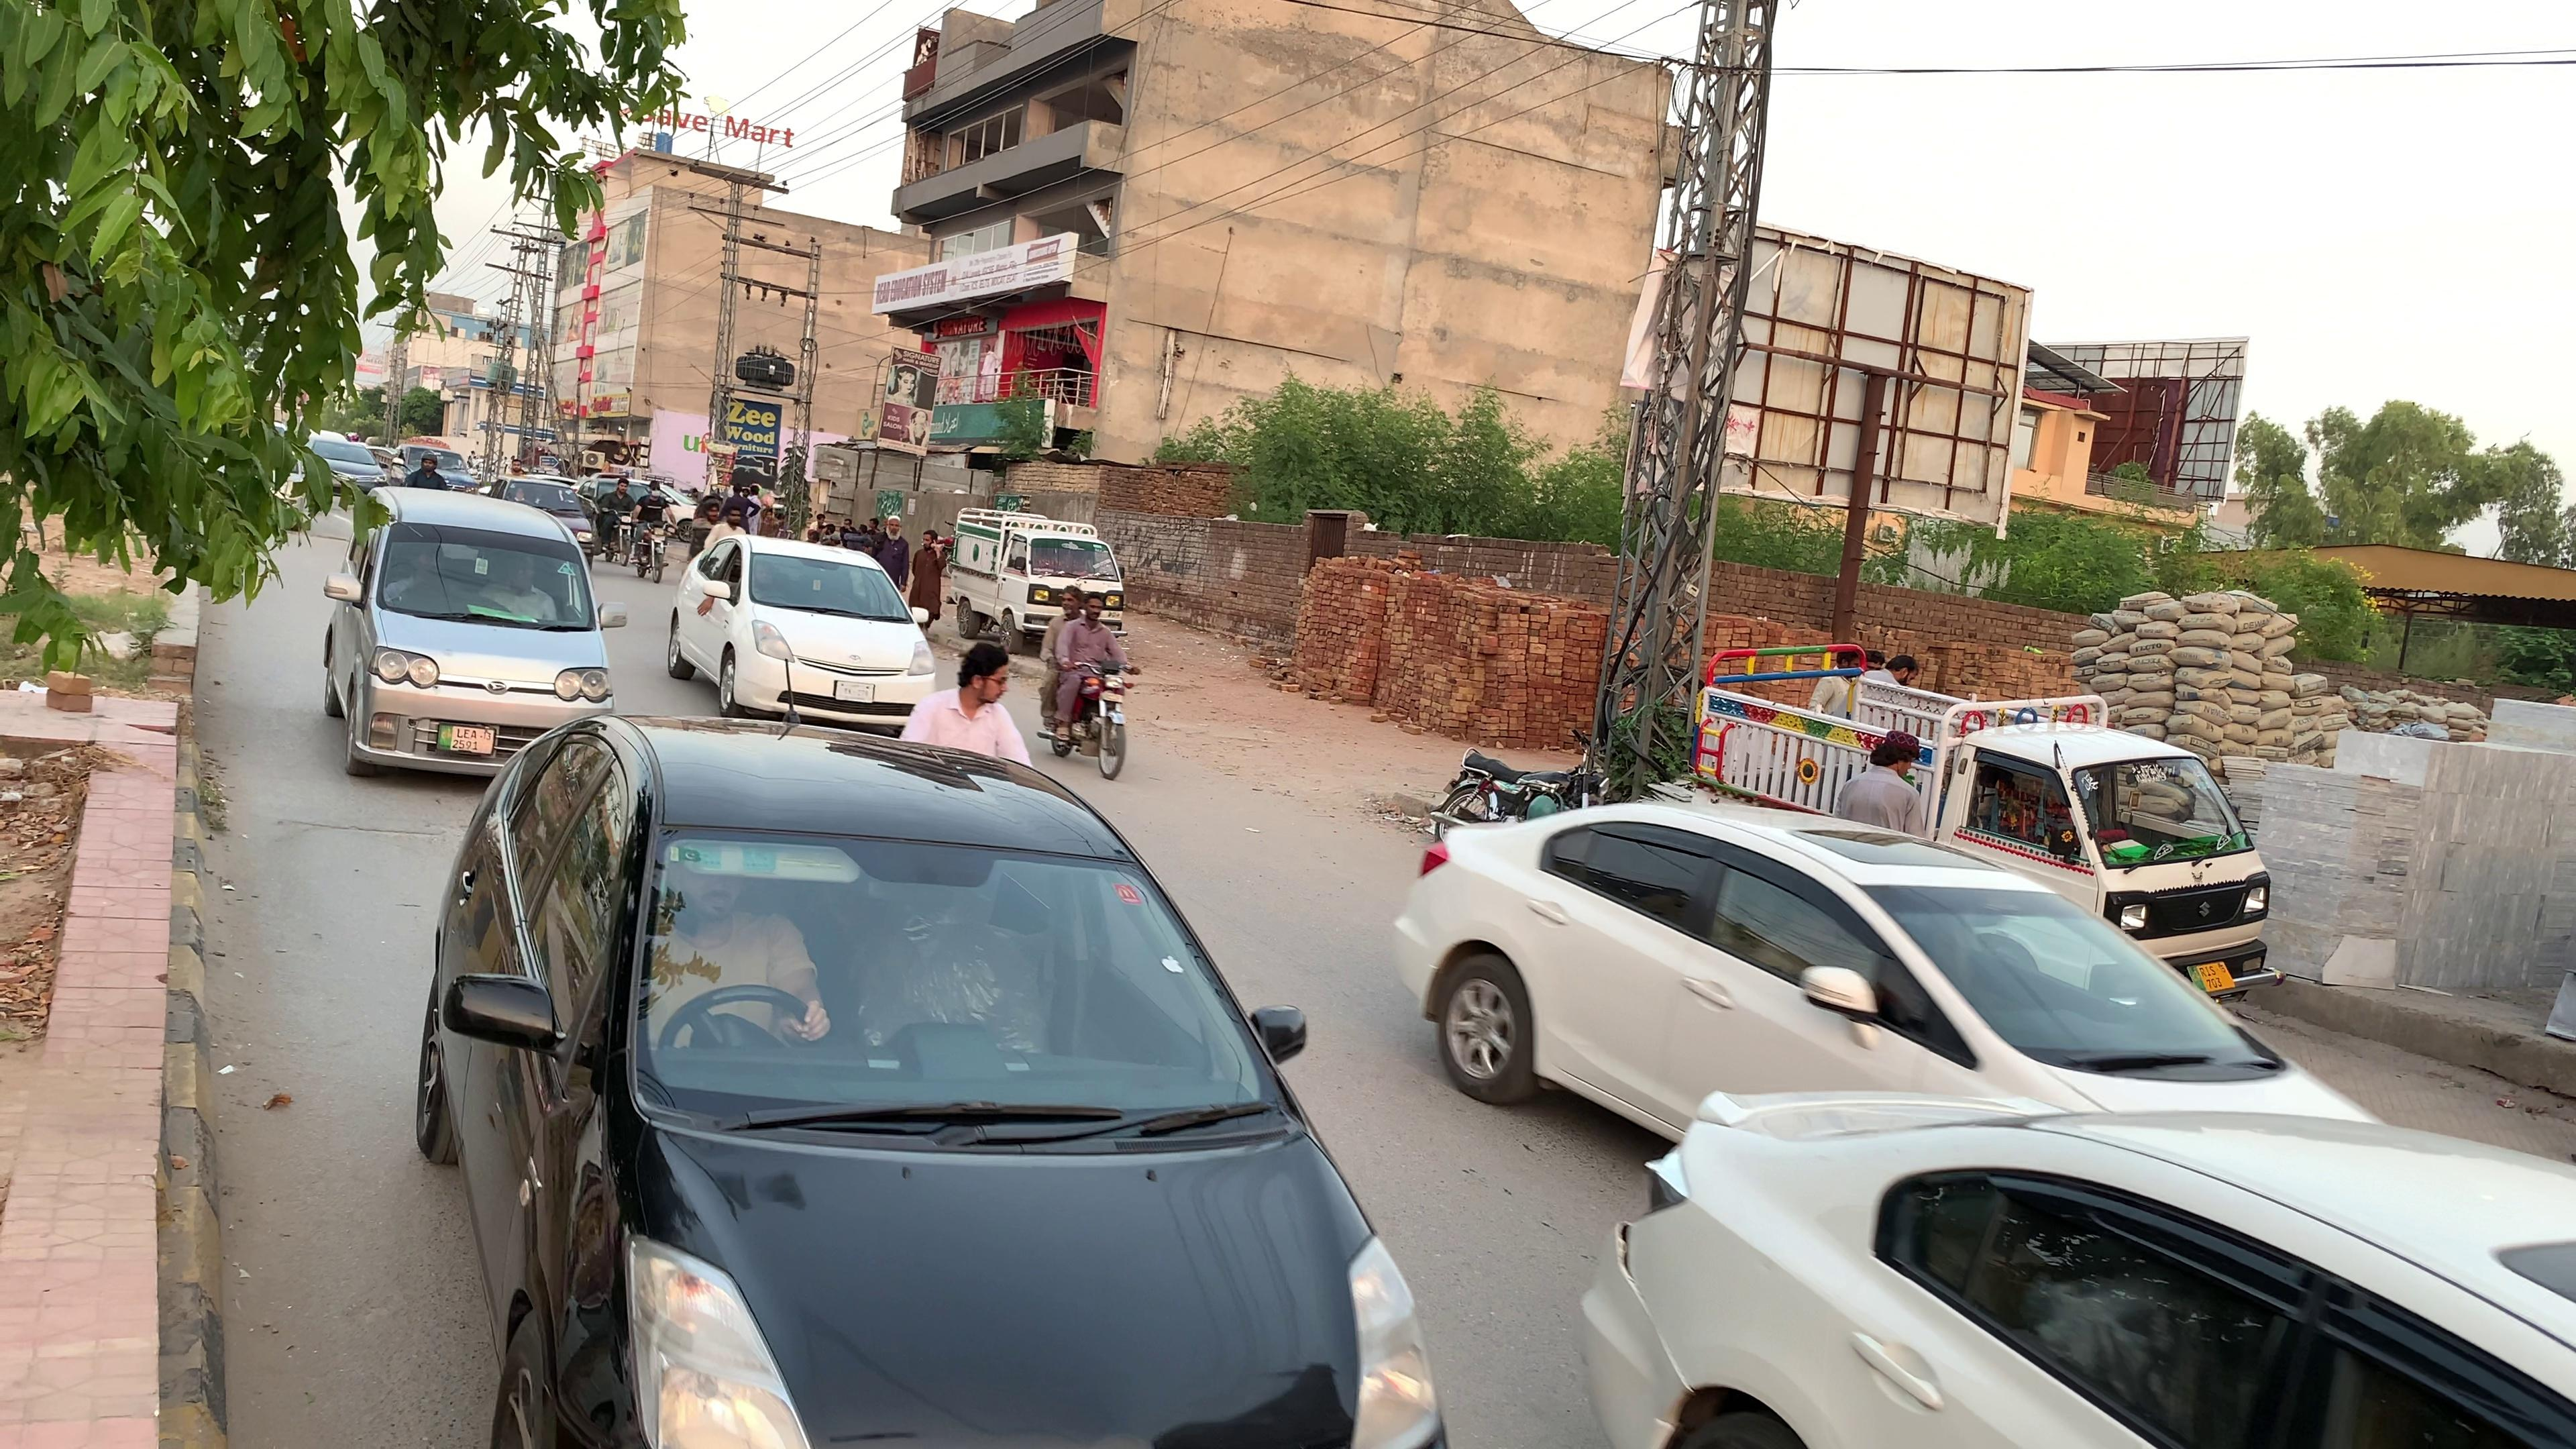windshield: (617, 778, 1306, 1161), (1840, 869, 2305, 1093), (384, 510, 602, 633)
